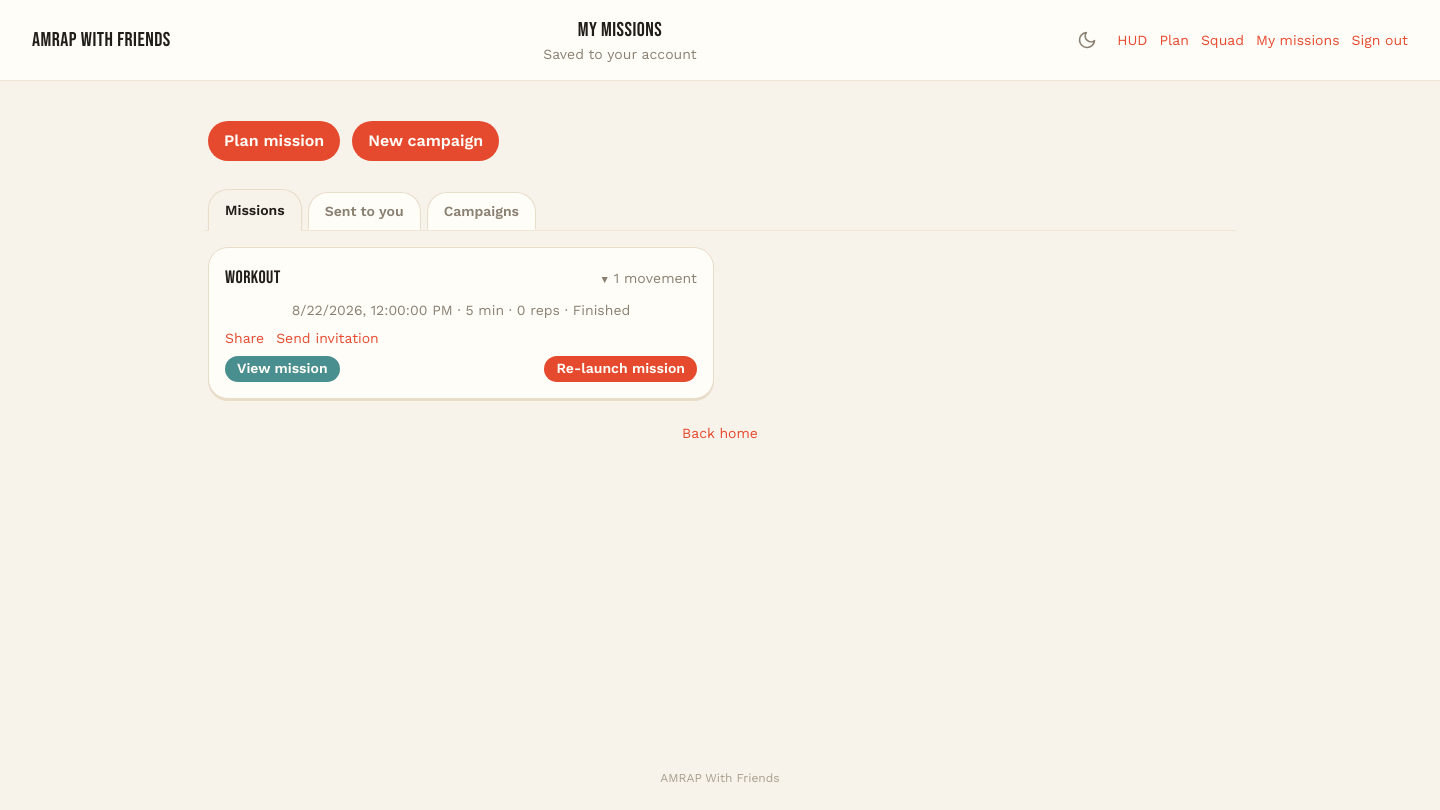
Test: MyMissionsPage relaunch › blocks relaunch when the athlete has no nickname
The image size is (1440, 810).
What coordinates should you click on to do the following:
click the button "Re-launch mission"
I would click on:
 (621, 369)
Its box is [544, 356, 697, 382].
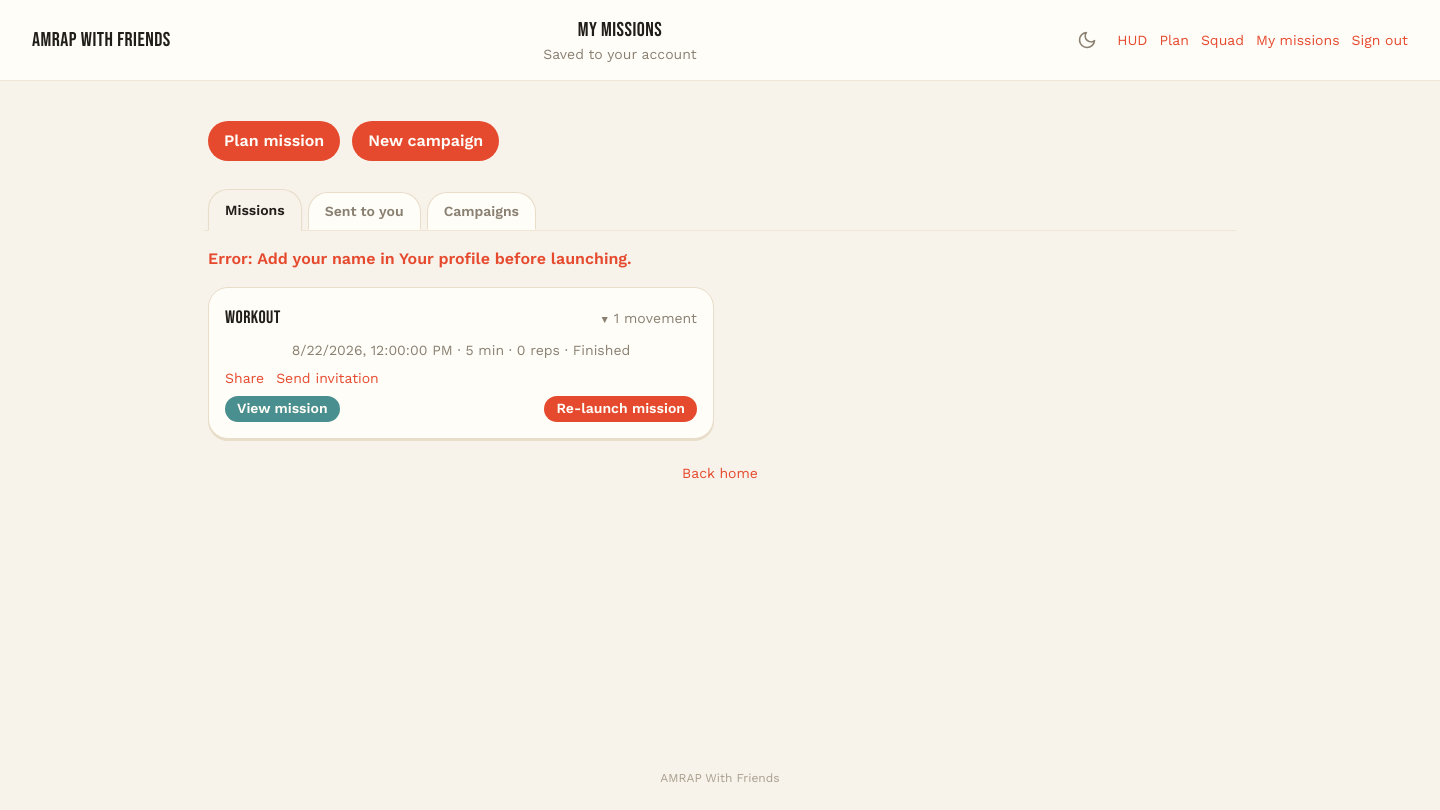
Expected: the text "Error: Add your name in Your profile before launching." is shown, [208, 249, 632, 268]
